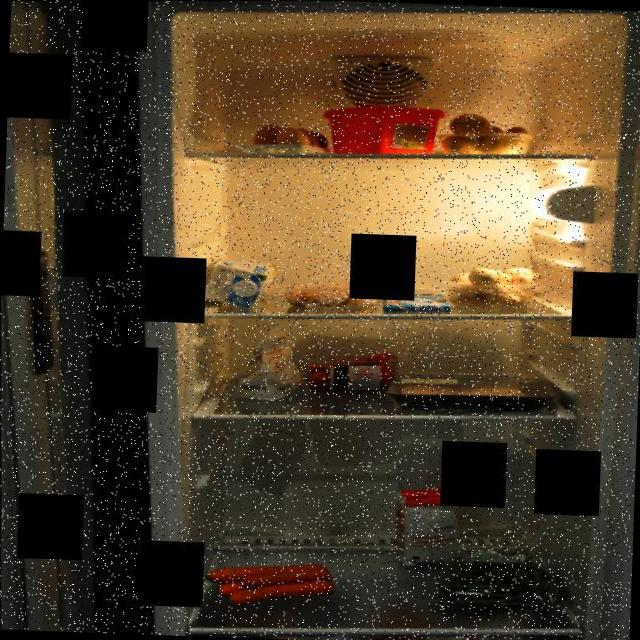Carne pollo: (392, 374, 535, 414)
Champiñones: (444, 262, 548, 313)
Gambas/Langostinos: (282, 280, 380, 312)
Huevos: (252, 119, 336, 156)
Leche: (198, 254, 282, 308)
Mantequilla: (321, 98, 443, 160)
Patata: (437, 109, 538, 158)
Zanahoria: (200, 557, 338, 609)
chocolate: (379, 287, 453, 315)
flour: (226, 322, 309, 402)
green_beans: (427, 536, 571, 615)
strawberries: (302, 348, 400, 394)
sugar: (390, 485, 461, 569)
